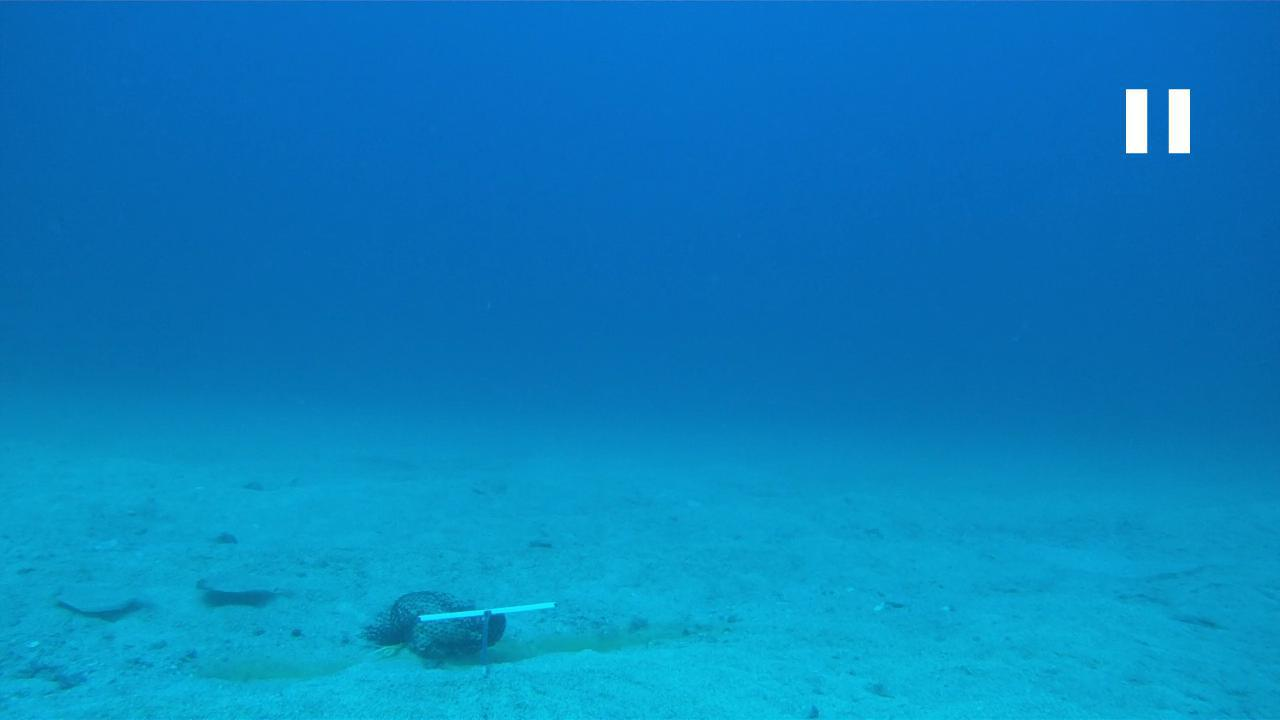bothus: (52, 570, 152, 622), (193, 562, 280, 608)
